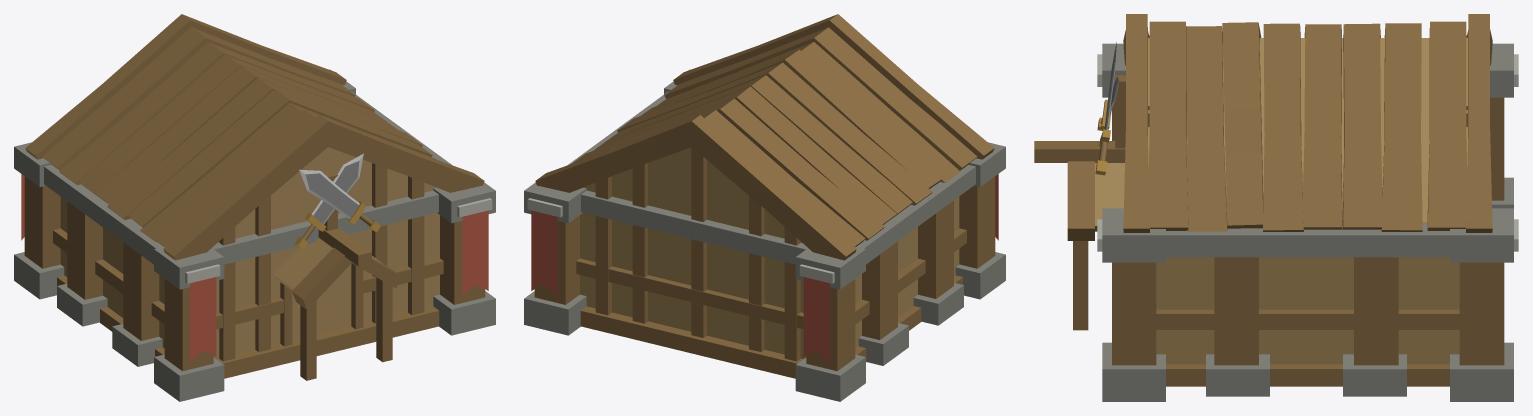
Rendered from project-1.glb.
The picture shows the model from 3 angles, left to right: view 1: azimuth 30°, elevation 25°; view 2: azimuth 150°, elevation 25°; view 3: azimuth 270°, elevation 25°; orthographic projection. The views are drawn at different scales.
Visible parts, largest first — view 1: Barracks_FirstAge_Level1; view 2: Barracks_FirstAge_Level1; view 3: Barracks_FirstAge_Level1.
Part boxes in pixels (box(x1,y1,x2,y2)): Barracks_FirstAge_Level1: box(14, 14, 495, 401); Barracks_FirstAge_Level1: box(524, 14, 1005, 401); Barracks_FirstAge_Level1: box(1034, 14, 1518, 401).
Bounding box in the file's own units: 1.01 × 0.7192 × 1.08.
1 material, 1 textured.
